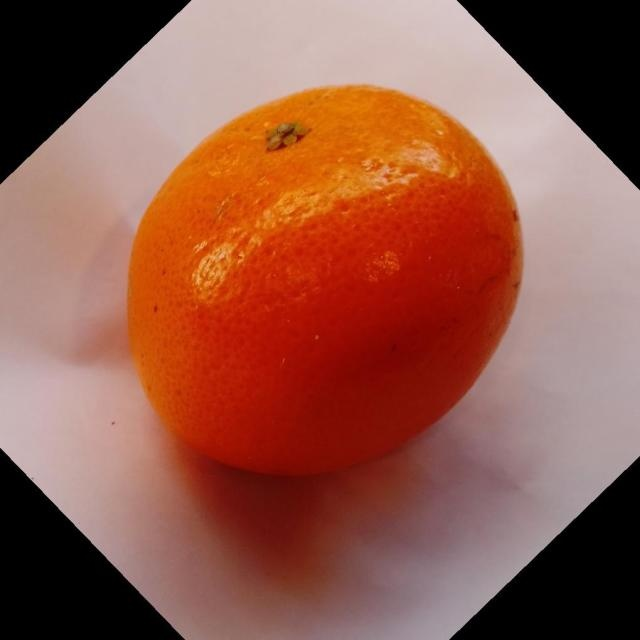agrume: (125, 82, 524, 478)
